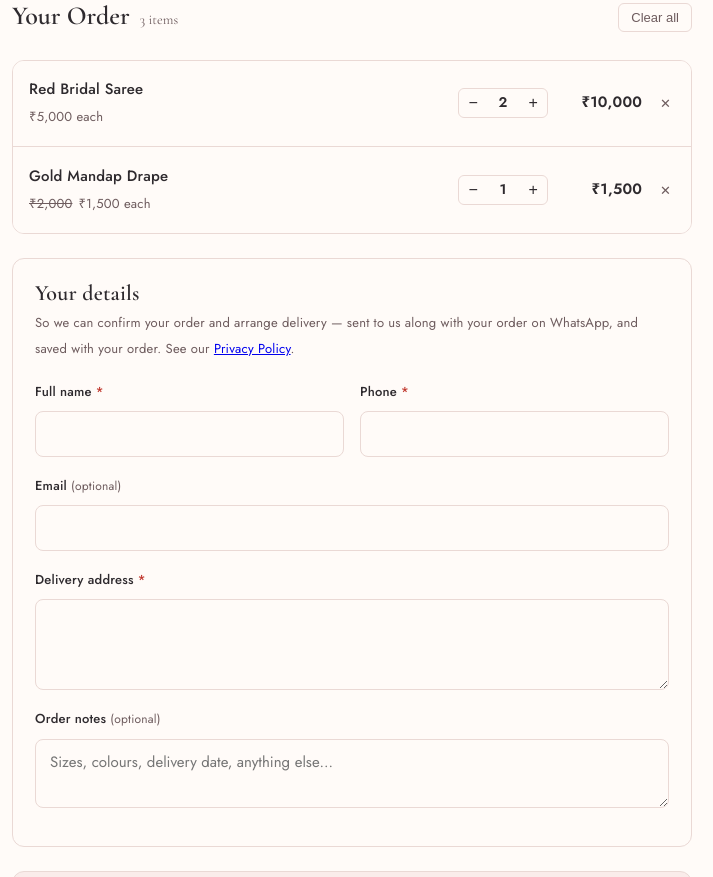
Test: placing an order › shows the order code so the customer can quote it later
Expected: the text "Red Bridal Saree" is shown, [29, 77, 143, 102]
In the field labelled "Full name *": point(190, 434) [35, 411, 344, 457], type "Asha Menon"
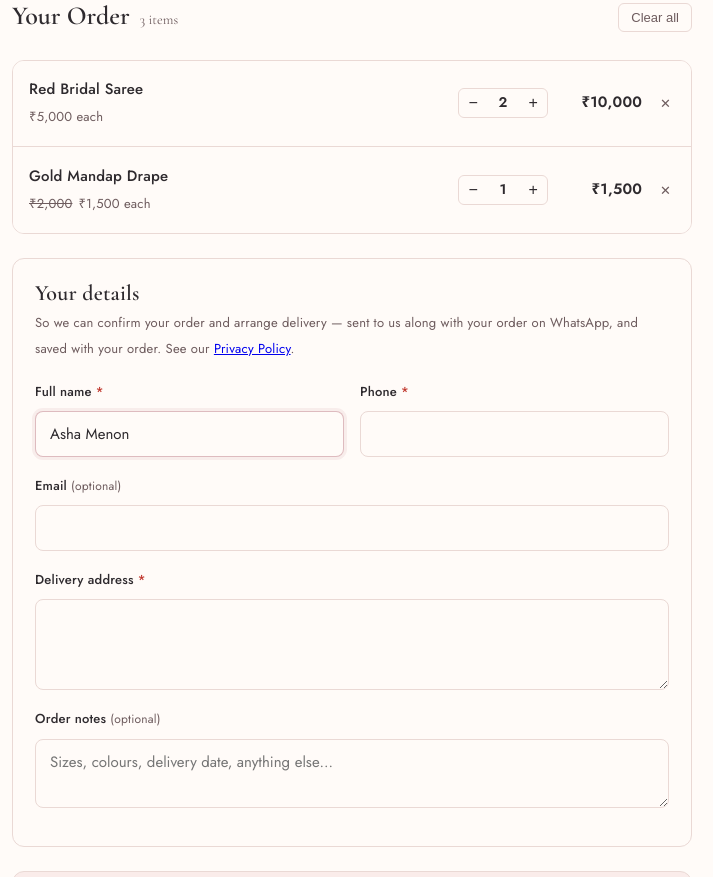
In the field labelled "Phone *": point(514, 434) [360, 411, 669, 457], type "9876543210"
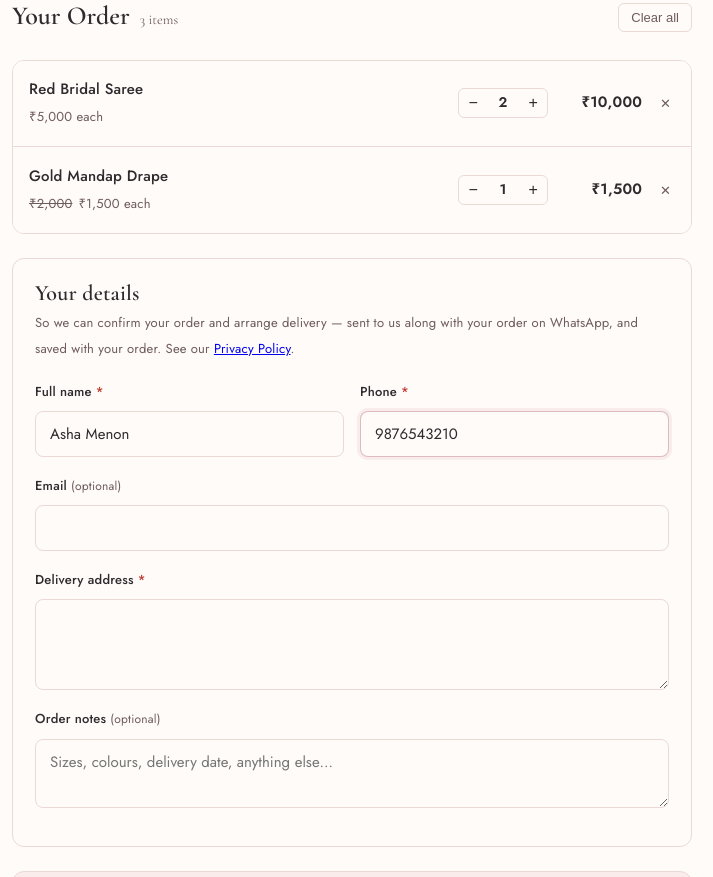
In the text box labelled "Delivery address *": point(352, 644) [35, 599, 669, 690], type "12 Rose Street"
(page scrolled)
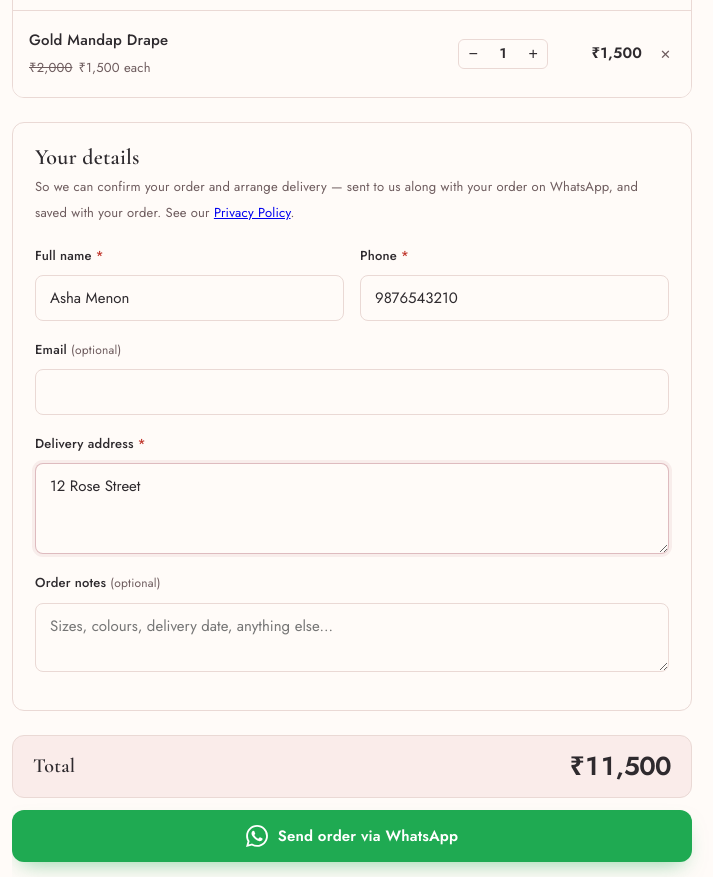
Click the button "Send order via WhatsApp": point(352, 836) [12, 810, 692, 862]
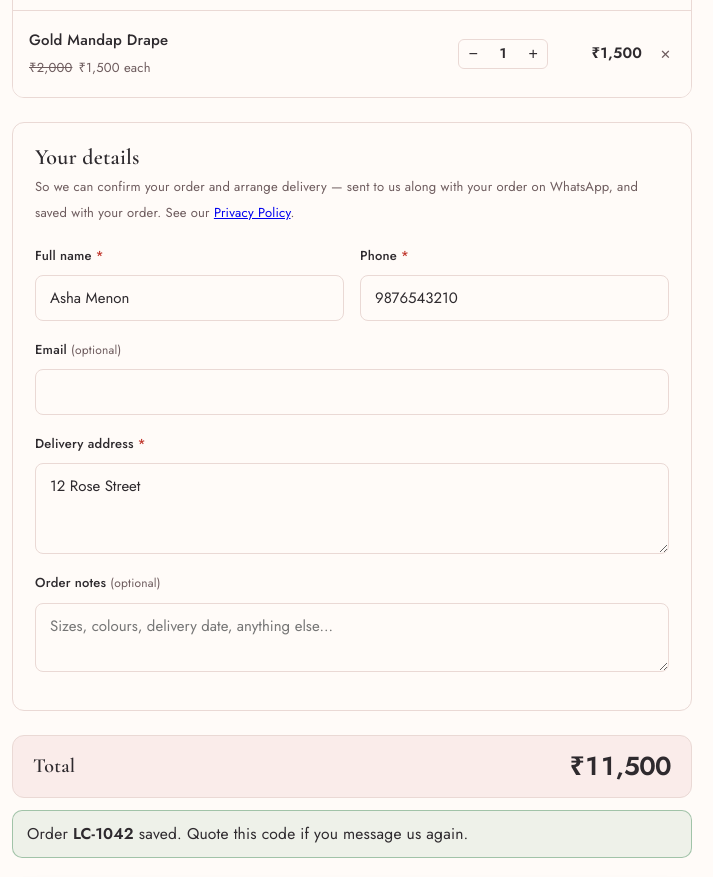
Expected: the text "LC-1042" is shown, [73, 822, 134, 845]
